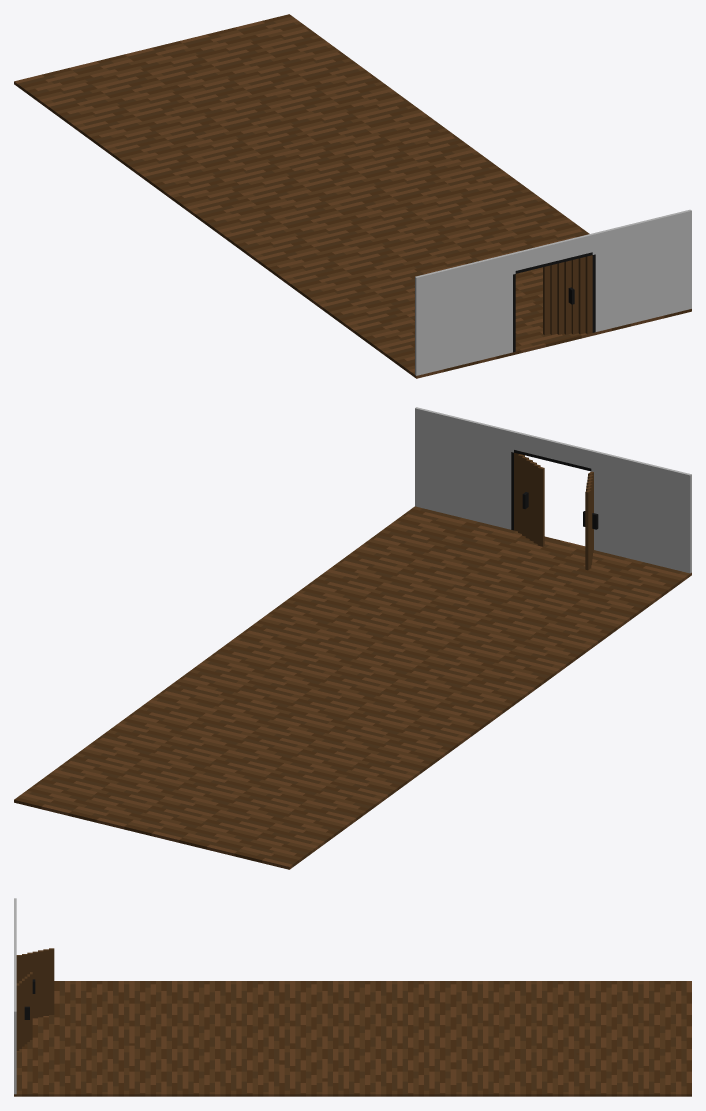
The model's file is FinCouloir(2).obj.
The picture shows the model from 3 angles, top to bottom: view 1: azimuth 30°, elevation 25°; view 2: azimuth 150°, elevation 25°; view 3: azimuth 270°, elevation 25°; orthographic projection. The views are drawn at different scales.
Size of the model in its own units: 10 by 3.5 by 25.3.
1 material, 1 textured.
